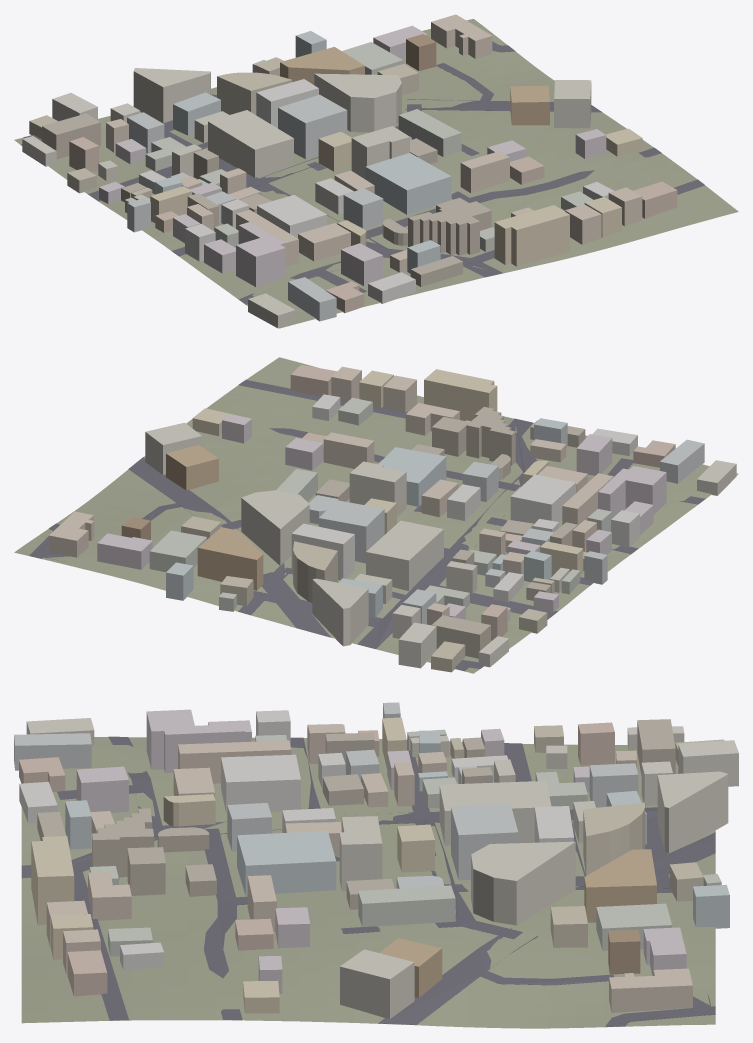
File: chunk_4_8.glb
3 renders of one model, top to bottom at view 1: azimuth 30°, elevation 25°; view 2: azimuth 150°, elevation 25°; view 3: azimuth 270°, elevation 25°, orthographic. The views are drawn at different scales.
Parts seen in each view (by area): view 1: geometry_99, geometry_35, geometry_21, geometry_50, geometry_33, geometry_54, geometry_2, geometry_37, geometry_24, geometry_55, geometry_23, geometry_53 (+54 smaller); view 2: geometry_99, geometry_35, geometry_21, geometry_53, geometry_54, geometry_33, geometry_24, geometry_18, geometry_2, geometry_23, geometry_50, geometry_37 (+63 smaller); view 3: geometry_99, geometry_21, geometry_50, geometry_54, geometry_13, geometry_18, geometry_35, geometry_49, geometry_53, geometry_55, geometry_24, geometry_2 (+74 smaller).
Boxes of the visible parts, <box> form: geometry_99: <box>14,19,738,328</box>; geometry_35: <box>208,110,293,177</box>; geometry_21: <box>314,73,401,132</box>; geometry_50: <box>365,153,451,214</box>; geometry_33: <box>494,205,569,266</box>; geometry_54: <box>133,68,210,123</box>; geometry_2: <box>278,94,347,159</box>; geometry_37: <box>408,206,479,255</box>; geometry_24: <box>236,222,285,287</box>; geometry_55: <box>217,72,292,114</box>; geometry_23: <box>351,126,409,178</box>; geometry_53: <box>280,47,364,84</box>; geometry_99: <box>14,357,738,673</box>; geometry_35: <box>366,520,443,590</box>; geometry_21: <box>241,490,309,565</box>; geometry_53: <box>197,527,263,590</box>; geometry_54: <box>312,578,368,646</box>; geometry_33: <box>424,369,497,421</box>; geometry_24: <box>598,466,666,518</box>; geometry_18: <box>510,474,575,523</box>; geometry_2: <box>318,500,384,563</box>; geometry_23: <box>349,461,406,516</box>; geometry_50: <box>378,447,446,506</box>; geometry_37: <box>466,406,515,465</box>; geometry_99: <box>21,737,715,1028</box>; geometry_21: <box>471,841,575,925</box>; geometry_50: <box>237,831,336,896</box>; geometry_54: <box>657,771,728,853</box>; geometry_13: <box>340,949,414,1018</box>; geometry_18: <box>221,754,300,813</box>; geometry_35: <box>439,781,551,845</box>; geometry_49: <box>358,885,455,926</box>; geometry_53: <box>584,849,656,922</box>; geometry_55: <box>583,802,645,875</box>; geometry_24: <box>146,709,244,772</box>; geometry_2: <box>451,803,518,880</box>.
Bounding box in the file's own units: 254 × 24.81 × 261.
